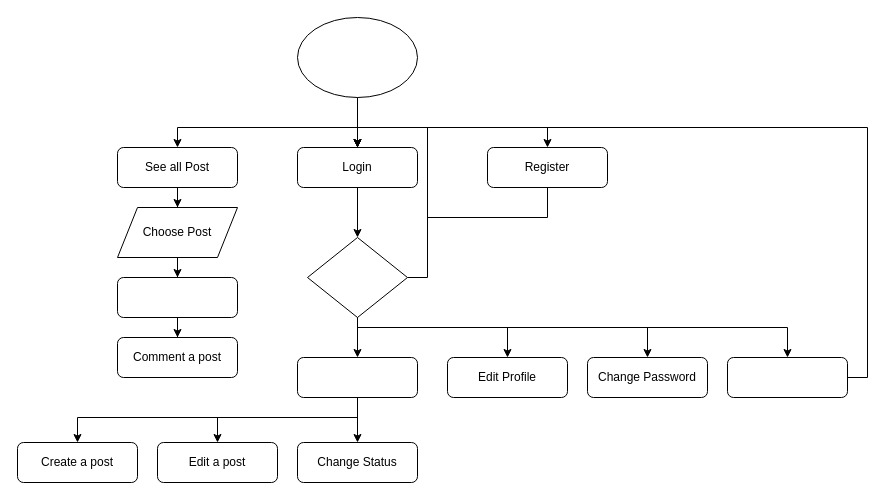
Some shapes in this 893 by 500 pixel diagram are drawn without their labels. Each missing label, with the centre of its shape:
"Authentication" belongs at point (357, 277).
"Detail Post" belongs at point (177, 297).
"Logout" belongs at point (787, 377).
"See all Post That you have" belongs at point (357, 377).
"Start" belongs at point (357, 57).
